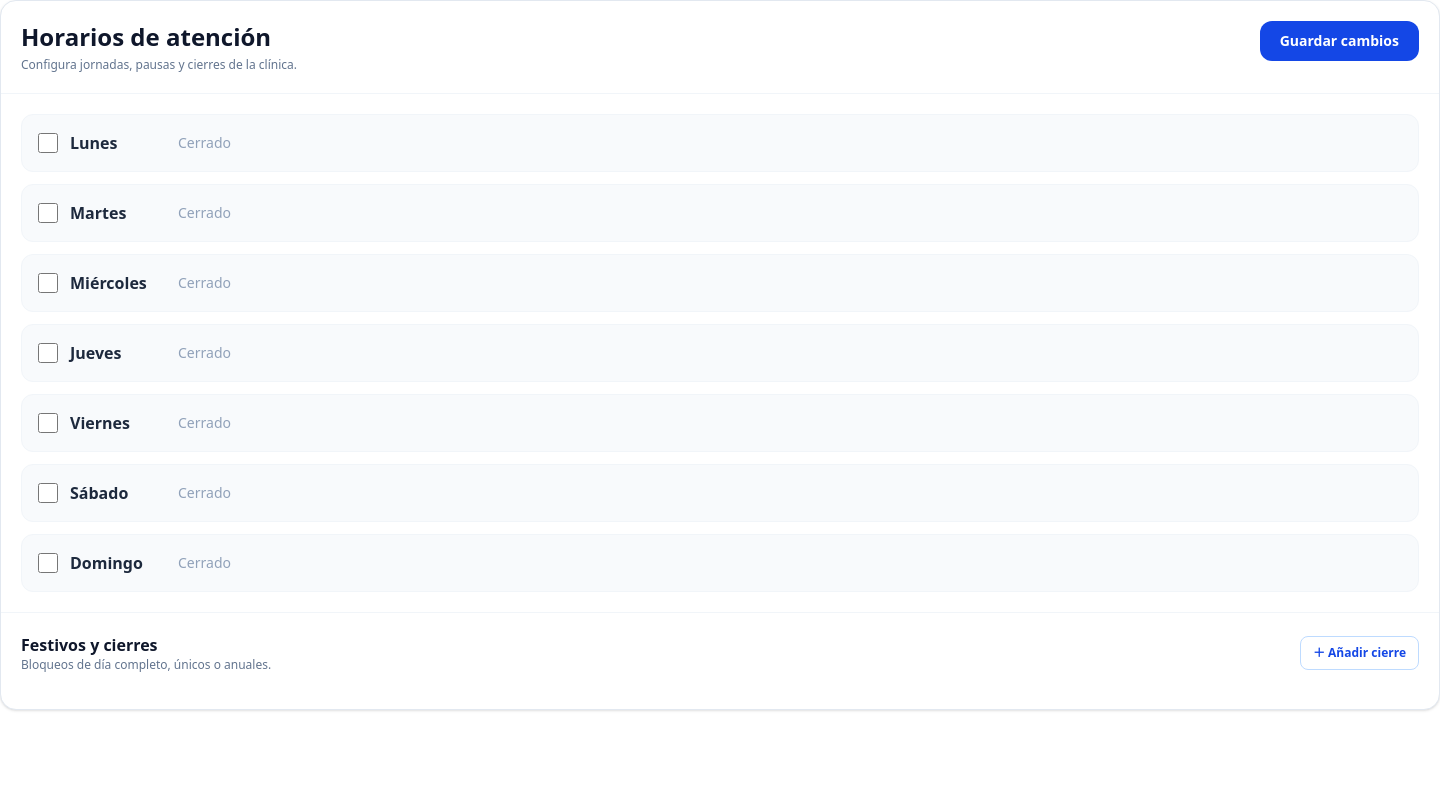
Test: shows save conflicts as an actionable alert with affected appointments
The width and height of the screenshot is (1440, 810).
Expected: the checkbox labelled "Lunes" is shown, left=38, top=133, right=58, bottom=153
Step 1. Click the button "Guardar cambios" → (1339, 41), box left=1260, top=21, right=1419, bottom=61
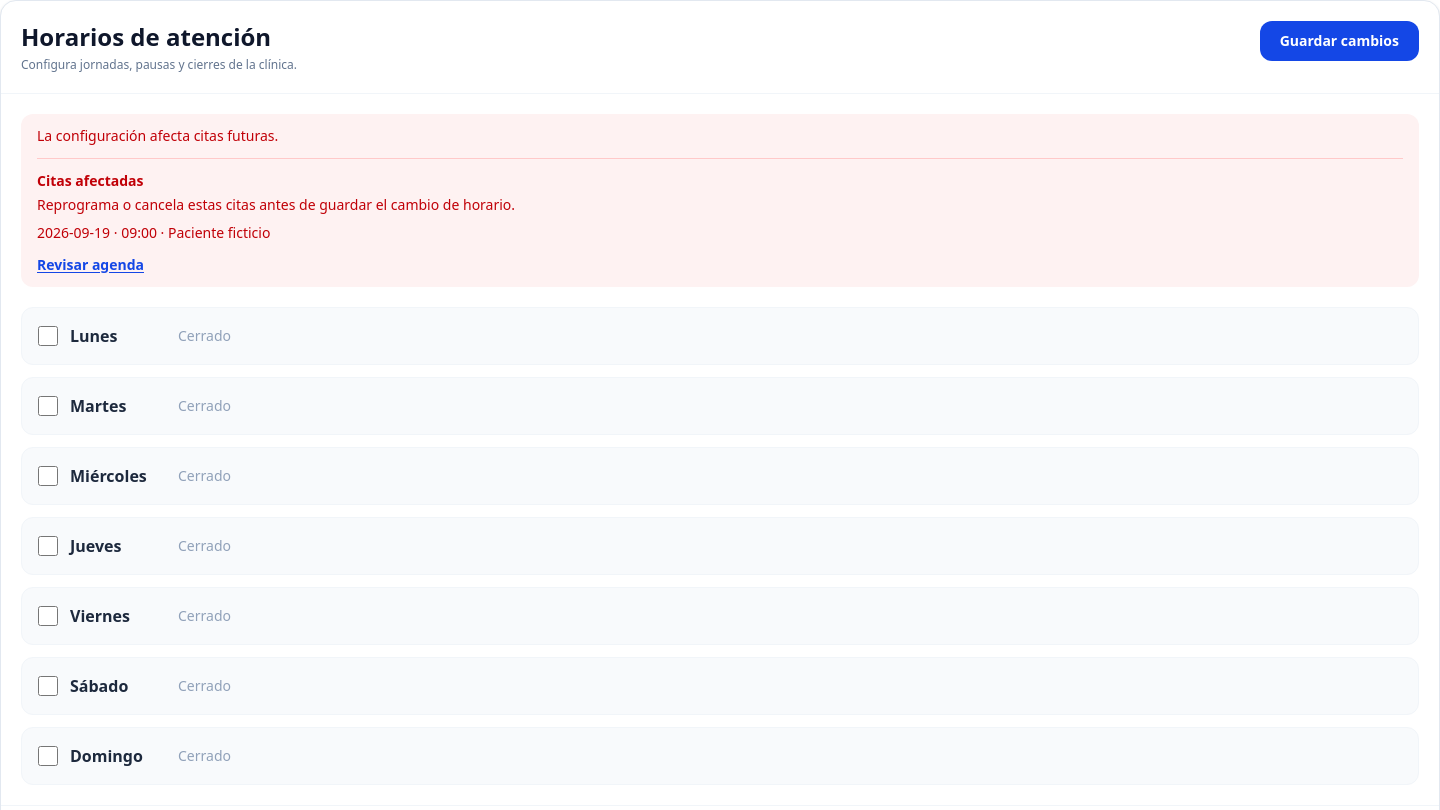
Expected: the checkbox labelled "Sábado" is not checked, left=38, top=676, right=58, bottom=696
Now the message shows "2026-09-19 · 09:00 · Paciente ficticio", box left=21, top=114, right=1419, bottom=287
Now the message shows "Reprograma o cancela", box left=37, top=195, right=515, bottom=214
